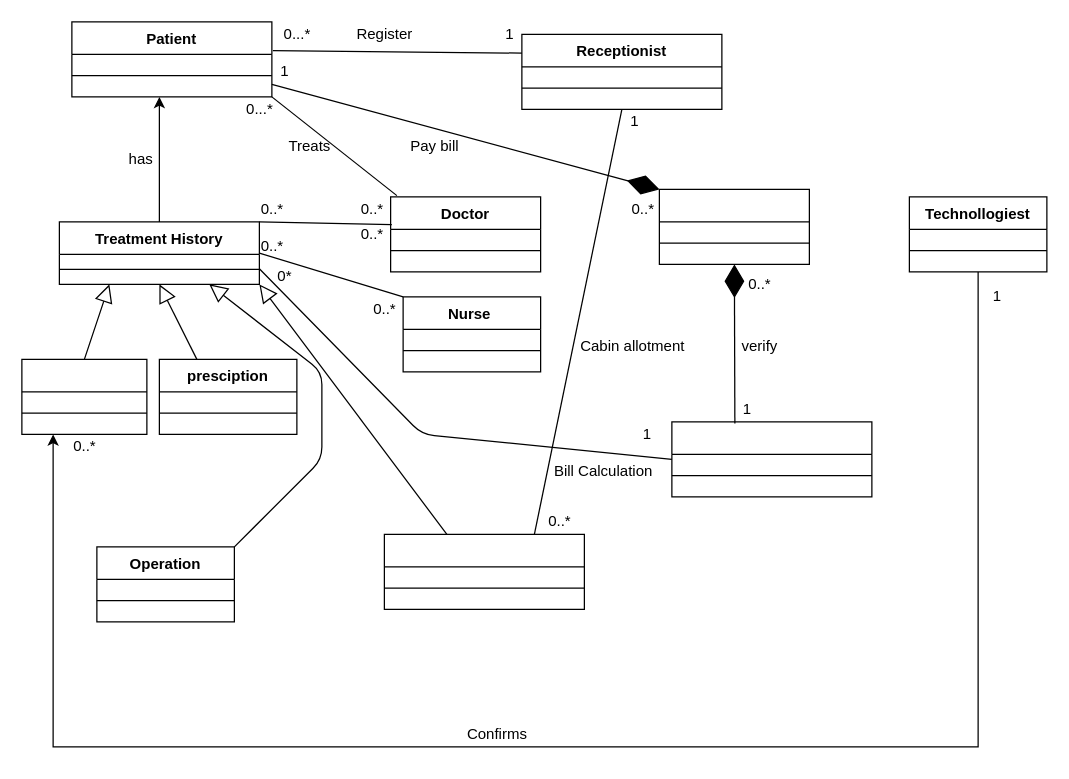
Some shapes in this 1069 by 779 pixel diagram are drawn without their labels. Each missing label, with the centre of its shape:
"Admit/ Discharge" goes at (483,571).
"Billing System" goes at (771,459).
"Payment" goes at (733,226).
"Test" goes at (84,396).
